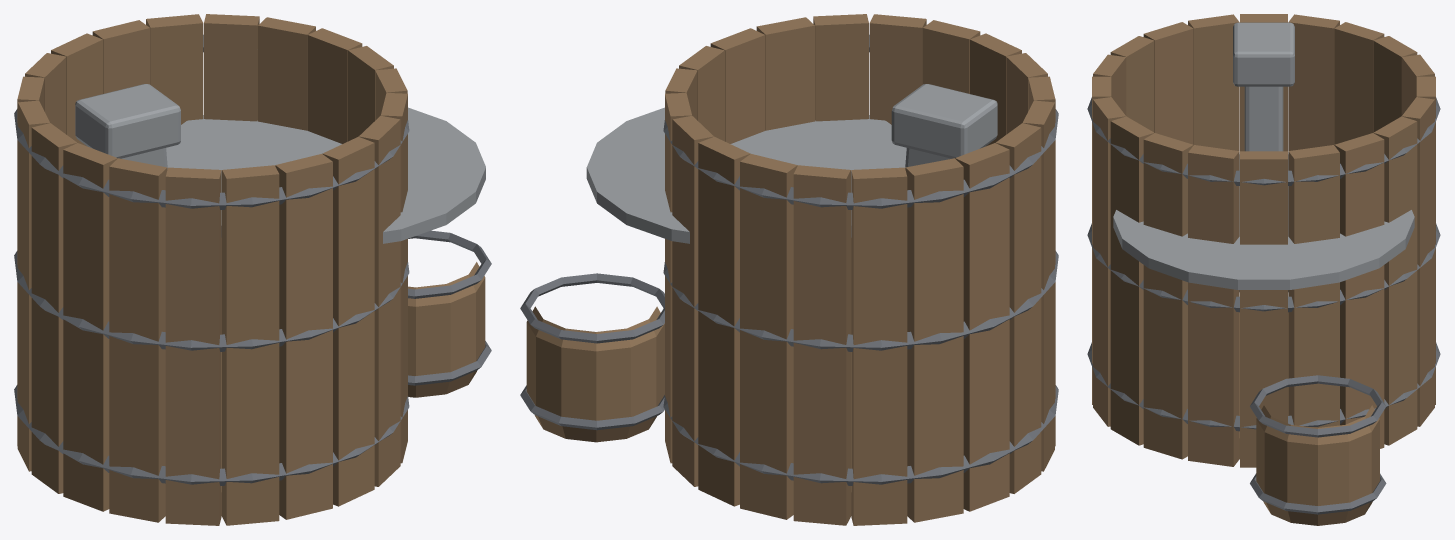
The model's file is monastery_rain_water_butt.glb.
3 renders of one model, left to right at view 1: azimuth 30°, elevation 25°; view 2: azimuth 150°, elevation 25°; view 3: azimuth 270°, elevation 25°, orthographic. The views are drawn at different scales.
Parts seen in each view (by area): view 1: world; view 2: world; view 3: world.
Part boxes in pixels (<box>): world: <box>14,14,491,525</box>; world: <box>520,14,1058,525</box>; world: <box>1087,14,1440,525</box>.
Bounding box in the file's own units: 2 × 1.55 × 1.46.
